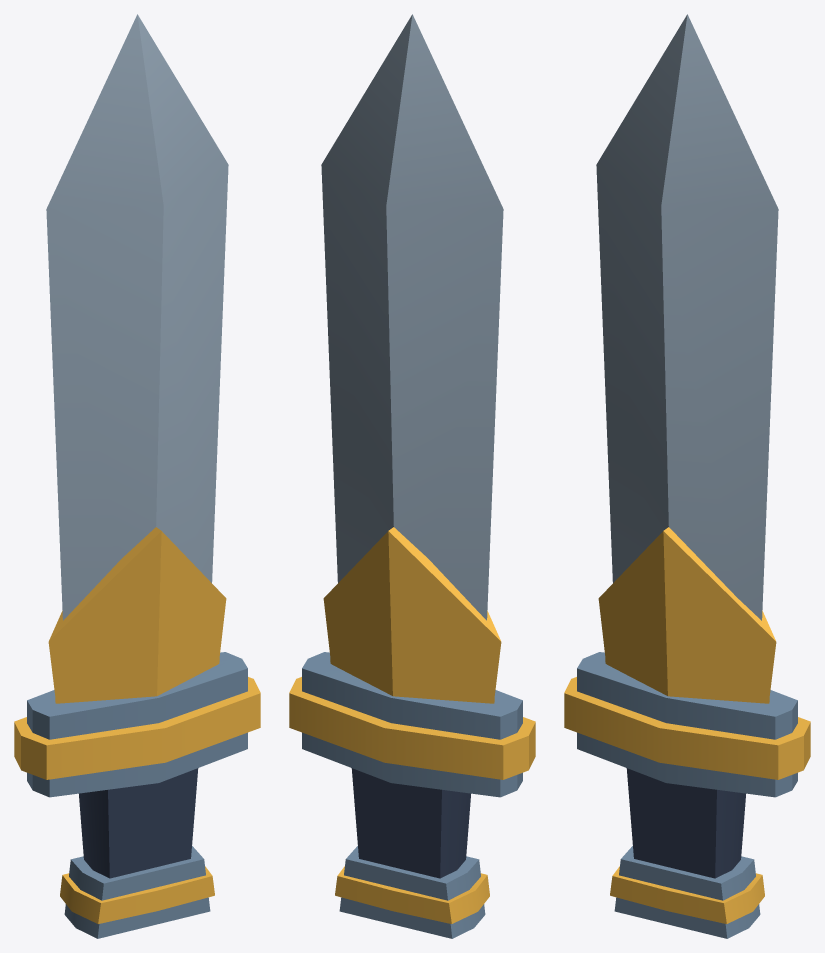
Rendered from Sword B Multi.fbx.
The picture shows the model from 3 angles, left to right: view 1: azimuth 30°, elevation 25°; view 2: azimuth 150°, elevation 25°; view 3: azimuth 330°, elevation 25°; orthographic projection.
Parts seen in each view (by area): view 1: Sword B; view 2: Sword B; view 3: Sword B.
Part boxes in pixels (x1=…): Sword B: x1=14, y1=14, x2=260, y2=938; Sword B: x1=289, y1=14, x2=535, y2=938; Sword B: x1=564, y1=14, x2=810, y2=938.
Size of the model in its own units: 0.3837 by 1.42 by 0.1614.
